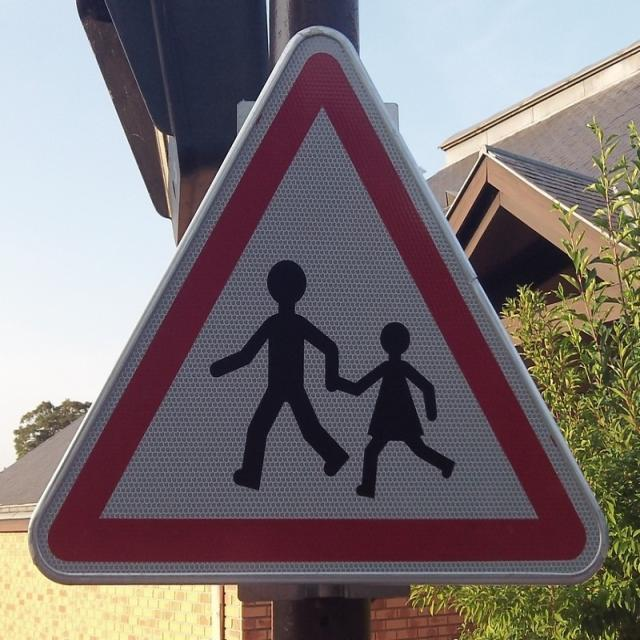AttentionEnfant: (14, 24, 605, 569)
